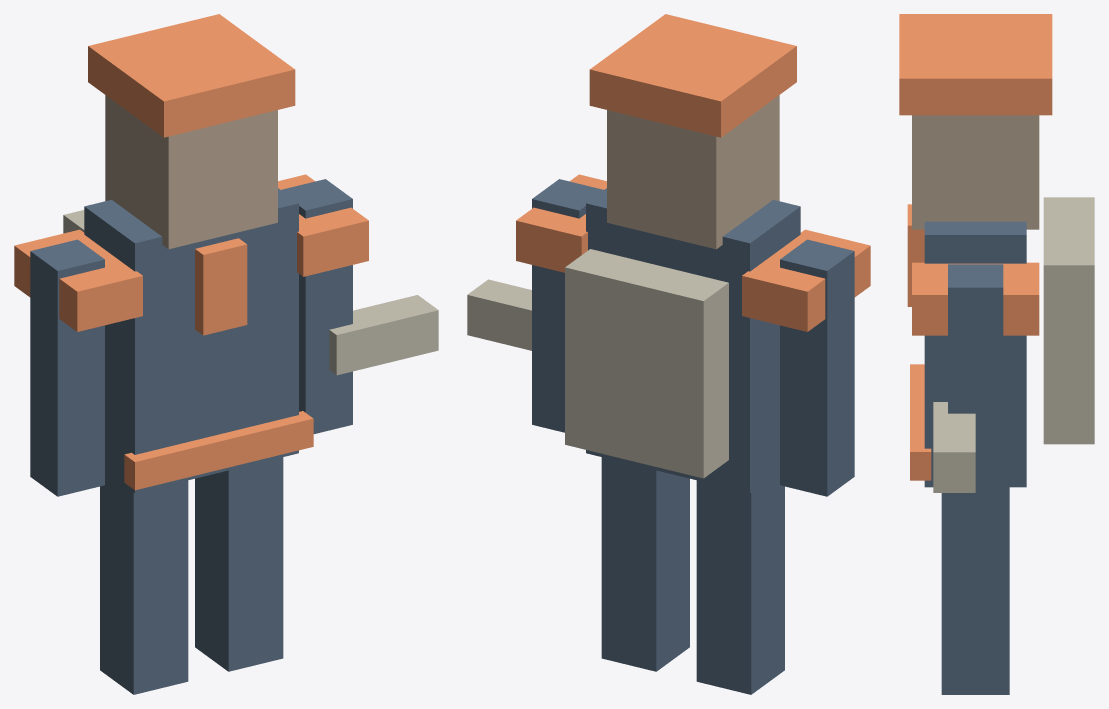
File: 11_astra_chromabell_herald_under_upper.glb
3 views of the same model, side by side, from view 1: azimuth 30°, elevation 25°; view 2: azimuth 150°, elevation 25°; view 3: azimuth 270°, elevation 25° (orthographic).
Visible parts, largest first — view 1: Astra Chromabell, Herald under Upper; view 2: Astra Chromabell, Herald under Upper; view 3: Astra Chromabell, Herald under Upper.
Boxes of the visible parts, left/top/right/bottom form: Astra Chromabell, Herald under Upper: left=14, top=14, right=438, bottom=694; Astra Chromabell, Herald under Upper: left=467, top=14, right=870, bottom=694; Astra Chromabell, Herald under Upper: left=899, top=14, right=1094, bottom=694.
Size of the model in its own units: 1.07 by 1.66 by 0.4792.
